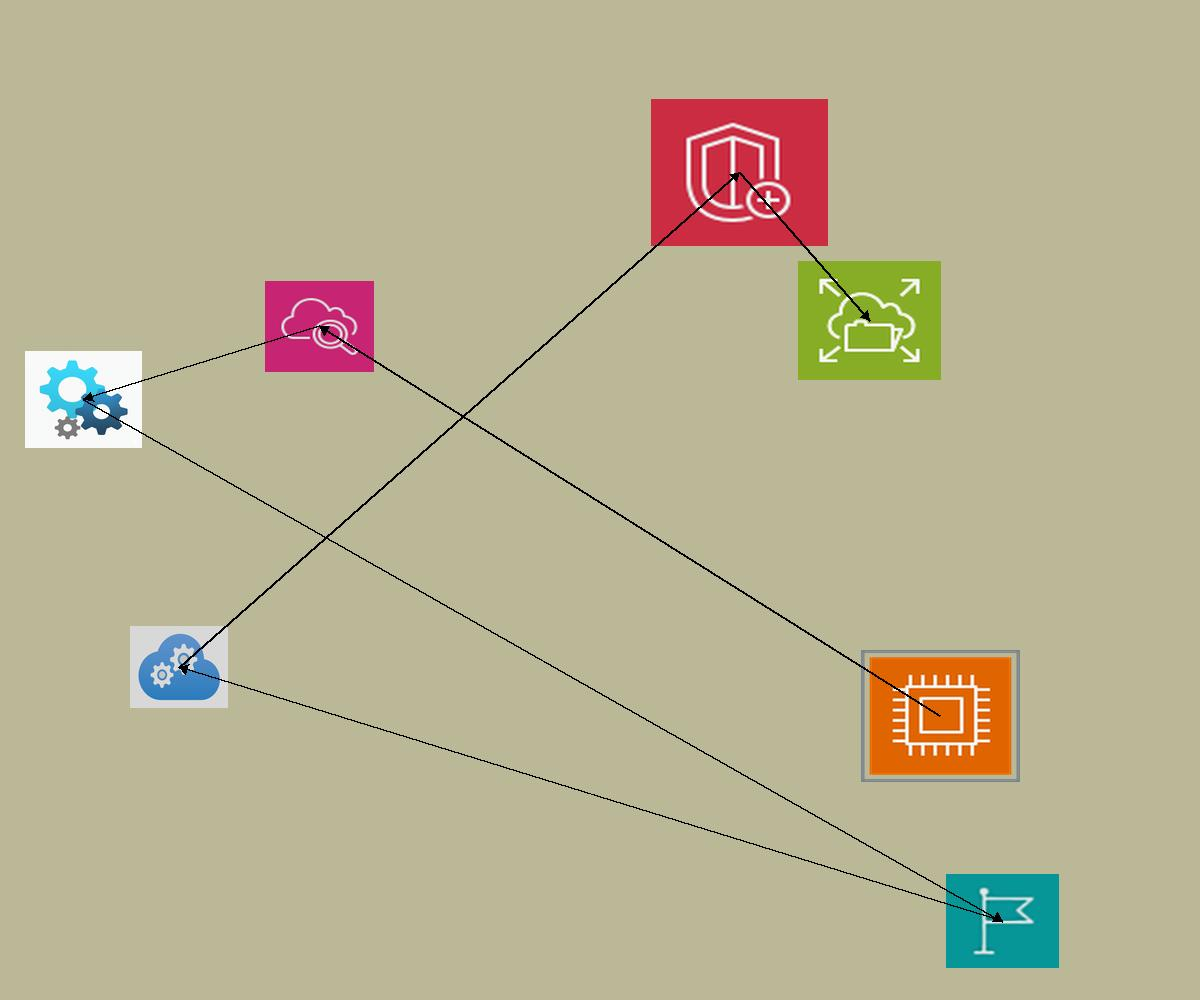AWS-Category_Compute: (861, 650, 1020, 782)
AWS-CloudWatch: (265, 281, 374, 372)
AWS-EFS: (798, 261, 941, 380)
AWS-Region: (946, 874, 1059, 968)
AWS-Shield: (651, 99, 828, 246)
Azure_api: (25, 351, 142, 448)
Azure_cloud_services: (130, 626, 228, 708)
